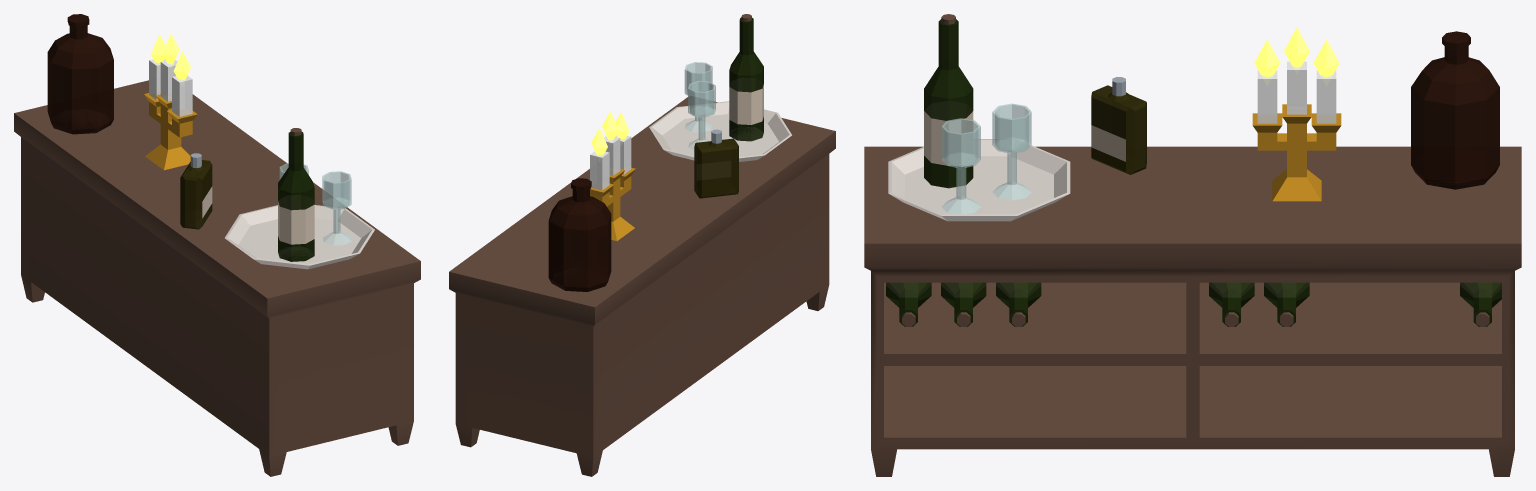
3 views of the same model, side by side, from view 1: azimuth 30°, elevation 25°; view 2: azimuth 150°, elevation 25°; view 3: azimuth 270°, elevation 25° (orthographic). The views are drawn at different scales.
Visible parts, largest first — view 1: Shelf_2x1x1_proxy.001_0, Shelf_2x1x1_proxy.001_2, Shelf_2x1x1_proxy.001_8, Shelf_2x1x1_proxy.001_3, Shelf_2x1x1_proxy.001_5, Shelf_2x1x1_proxy.001_9, Shelf_2x1x1_proxy.001_6, Shelf_2x1x1_proxy.001_1, Shelf_2x1x1_proxy.001_4, Shelf_2x1x1_proxy.001_7; view 2: Shelf_2x1x1_proxy.001_0, Shelf_2x1x1_proxy.001_2, Shelf_2x1x1_proxy.001_8, Shelf_2x1x1_proxy.001_9, Shelf_2x1x1_proxy.001_3, Shelf_2x1x1_proxy.001_1, Shelf_2x1x1_proxy.001_6, Shelf_2x1x1_proxy.001_5, Shelf_2x1x1_proxy.001_4, Shelf_2x1x1_proxy.001_7; view 3: Shelf_2x1x1_proxy.001_0, Shelf_2x1x1_proxy.001_3, Shelf_2x1x1_proxy.001_2, Shelf_2x1x1_proxy.001_8, Shelf_2x1x1_proxy.001_1, Shelf_2x1x1_proxy.001_5, Shelf_2x1x1_proxy.001_9, Shelf_2x1x1_proxy.001_6, Shelf_2x1x1_proxy.001_4, Shelf_2x1x1_proxy.001_7.
Part boxes in pixels (<box>): Shelf_2x1x1_proxy.001_0: <box>14,80,420,476</box>; Shelf_2x1x1_proxy.001_2: <box>47,14,113,134</box>; Shelf_2x1x1_proxy.001_8: <box>225,205,374,269</box>; Shelf_2x1x1_proxy.001_3: <box>278,132,314,261</box>; Shelf_2x1x1_proxy.001_5: <box>144,93,197,170</box>; Shelf_2x1x1_proxy.001_9: <box>180,160,212,229</box>; Shelf_2x1x1_proxy.001_6: <box>149,59,192,116</box>; Shelf_2x1x1_proxy.001_1: <box>279,163,351,245</box>; Shelf_2x1x1_proxy.001_4: <box>202,186,314,244</box>; Shelf_2x1x1_proxy.001_7: <box>151,33,190,79</box>; Shelf_2x1x1_proxy.001_0: <box>449,14,835,476</box>; Shelf_2x1x1_proxy.001_2: <box>548,178,611,291</box>; Shelf_2x1x1_proxy.001_8: <box>649,101,791,161</box>; Shelf_2x1x1_proxy.001_9: <box>694,138,738,198</box>; Shelf_2x1x1_proxy.001_3: <box>729,18,763,141</box>; Shelf_2x1x1_proxy.001_1: <box>684,62,715,150</box>; Shelf_2x1x1_proxy.001_6: <box>590,135,631,190</box>; Shelf_2x1x1_proxy.001_5: <box>590,167,635,240</box>; Shelf_2x1x1_proxy.001_4: <box>729,84,763,124</box>; Shelf_2x1x1_proxy.001_7: <box>591,111,629,155</box>; Shelf_2x1x1_proxy.001_0: <box>864,14,1521,476</box>; Shelf_2x1x1_proxy.001_3: <box>886,19,1501,326</box>; Shelf_2x1x1_proxy.001_2: <box>1411,31,1499,189</box>; Shelf_2x1x1_proxy.001_8: <box>888,139,1070,221</box>; Shelf_2x1x1_proxy.001_1: <box>941,103,1031,214</box>; Shelf_2x1x1_proxy.001_5: <box>1252,104,1341,201</box>; Shelf_2x1x1_proxy.001_9: <box>1091,85,1146,174</box>; Shelf_2x1x1_proxy.001_6: <box>1257,61,1336,123</box>; Shelf_2x1x1_proxy.001_4: <box>924,111,1125,165</box>; Shelf_2x1x1_proxy.001_7: <box>1254,27,1339,77</box>.
Size of the model in its own units: 0.7 by 1.36 by 2.
